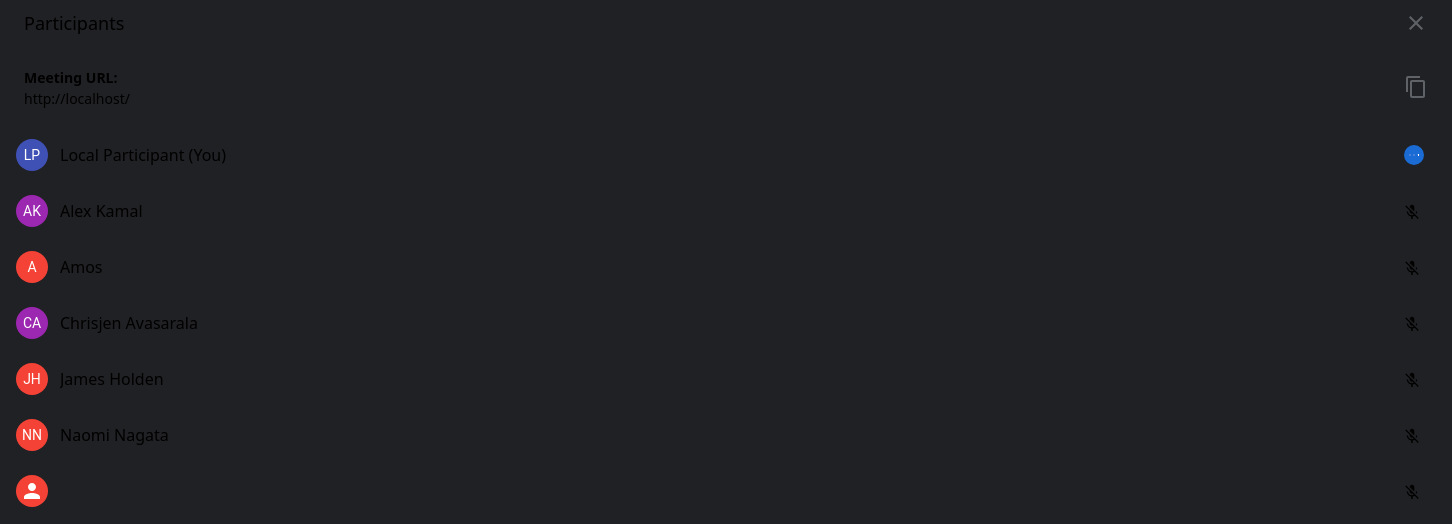
it: ParticipantList › copies room share URL to clipboard
Click the button with test id "ContentCopyIcon".
click(1416, 87)  # box top-left (1392, 63), bottom-right (1440, 111)
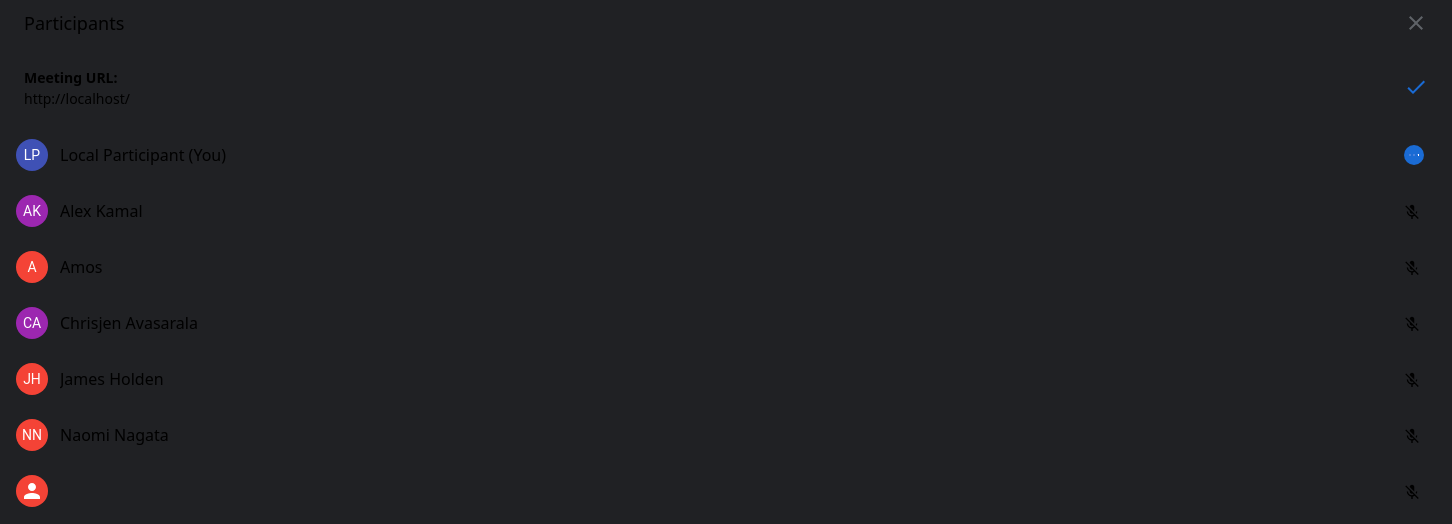
Expected: the icon with test id "CheckIcon" is shown, top-left (1404, 75), bottom-right (1428, 99)
